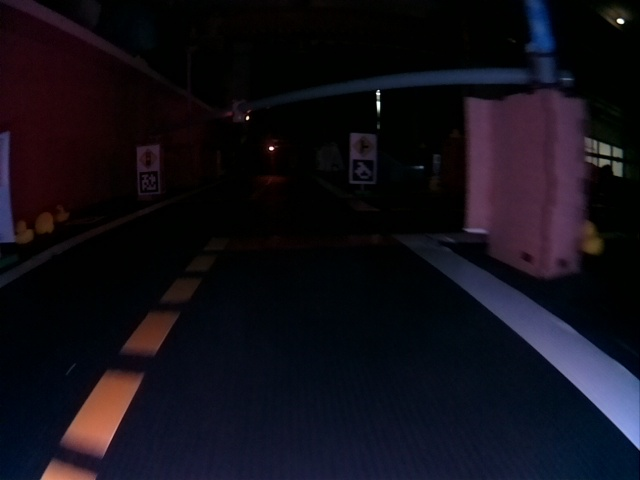Duckie: (581, 219, 604, 256), (15, 219, 33, 245), (35, 212, 55, 233), (54, 204, 70, 220)
Intersection sign: (352, 135, 374, 158)
QR code: (351, 159, 375, 183), (138, 172, 159, 194)
Signal sign: (137, 147, 159, 167)
Traffic light: (231, 104, 250, 121)
